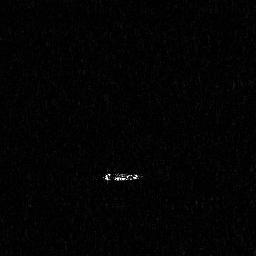ship: (100, 169, 145, 185)
